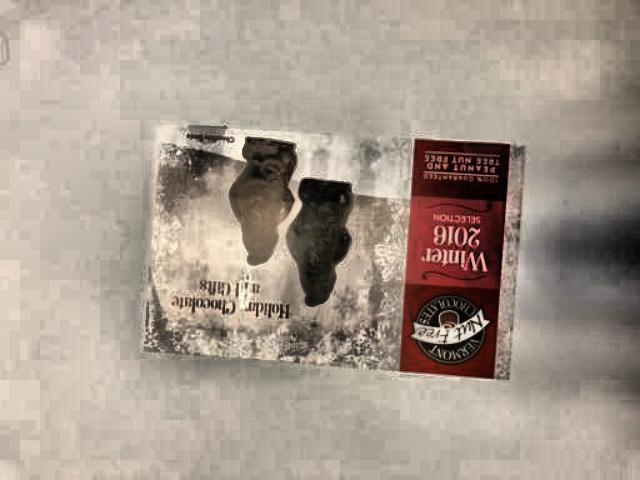Paper: (127, 115, 525, 387)
